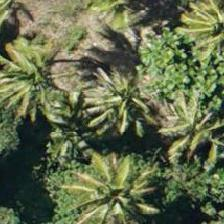coconut_tree: (73, 48, 163, 138), (55, 143, 145, 223), (69, 144, 159, 223), (0, 28, 73, 118), (151, 80, 223, 170), (171, 0, 223, 68)
